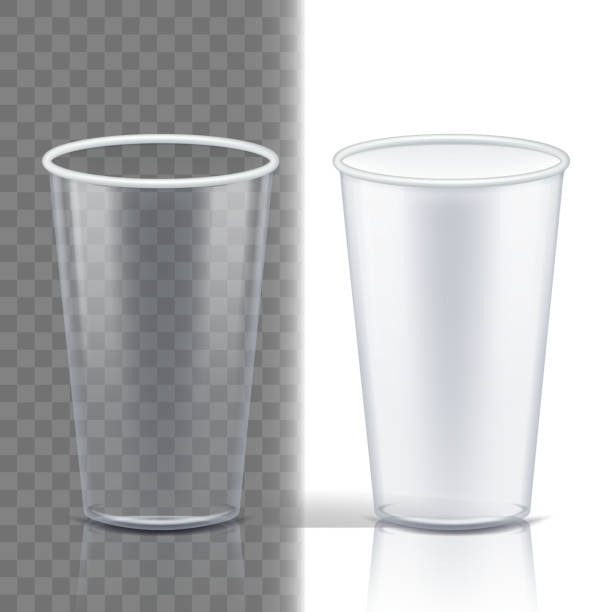plastic_bottle: (327, 128, 575, 539), (40, 129, 283, 540)
